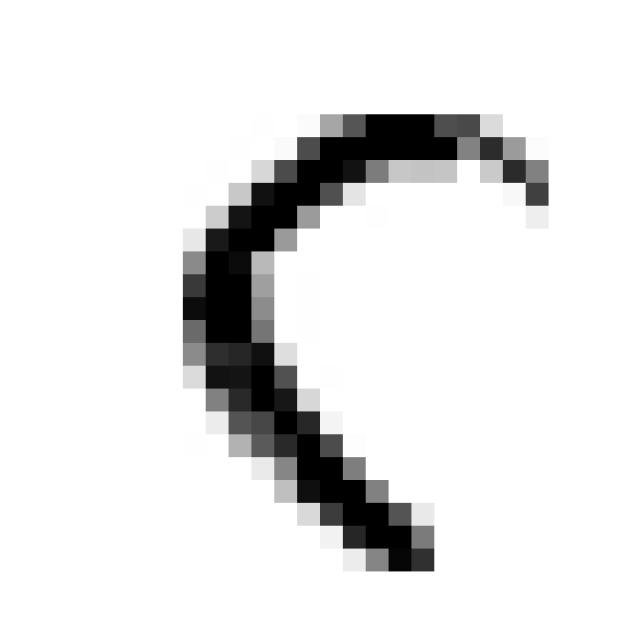2 -two-: (165, 94, 570, 587)
